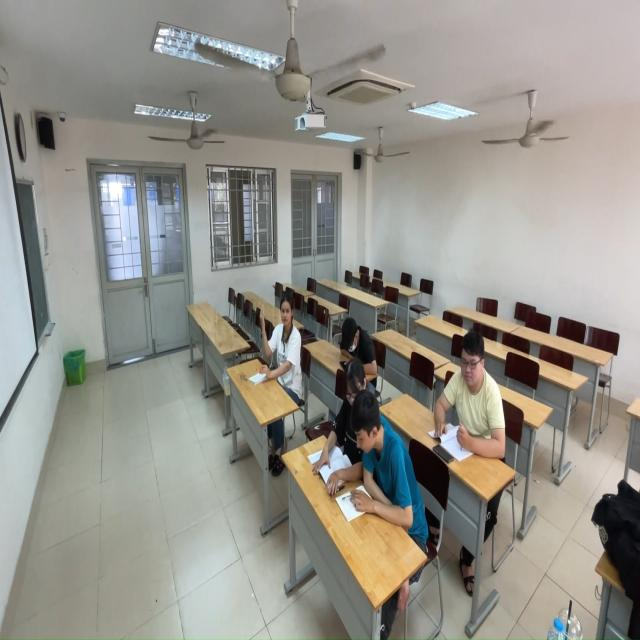raise_hand: (257, 291, 303, 399)
read: (433, 325, 506, 477), (348, 394, 420, 539), (319, 358, 382, 485), (336, 313, 379, 380)
